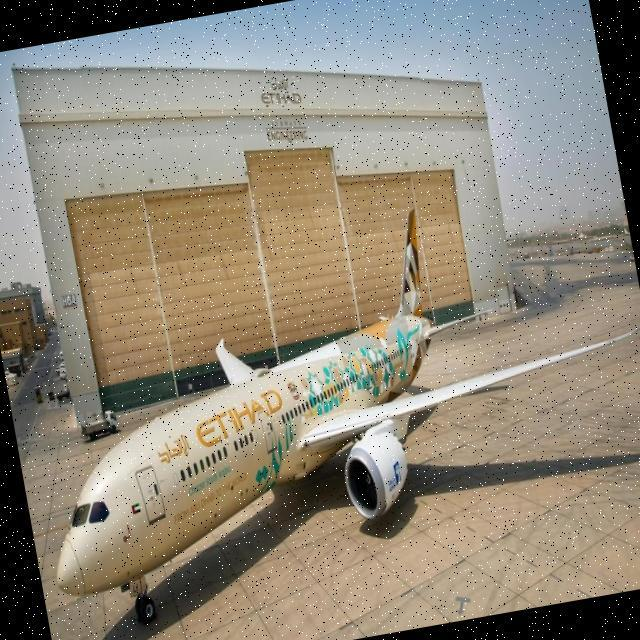Etihad Airways: (150, 388, 290, 465), (258, 73, 302, 110)
